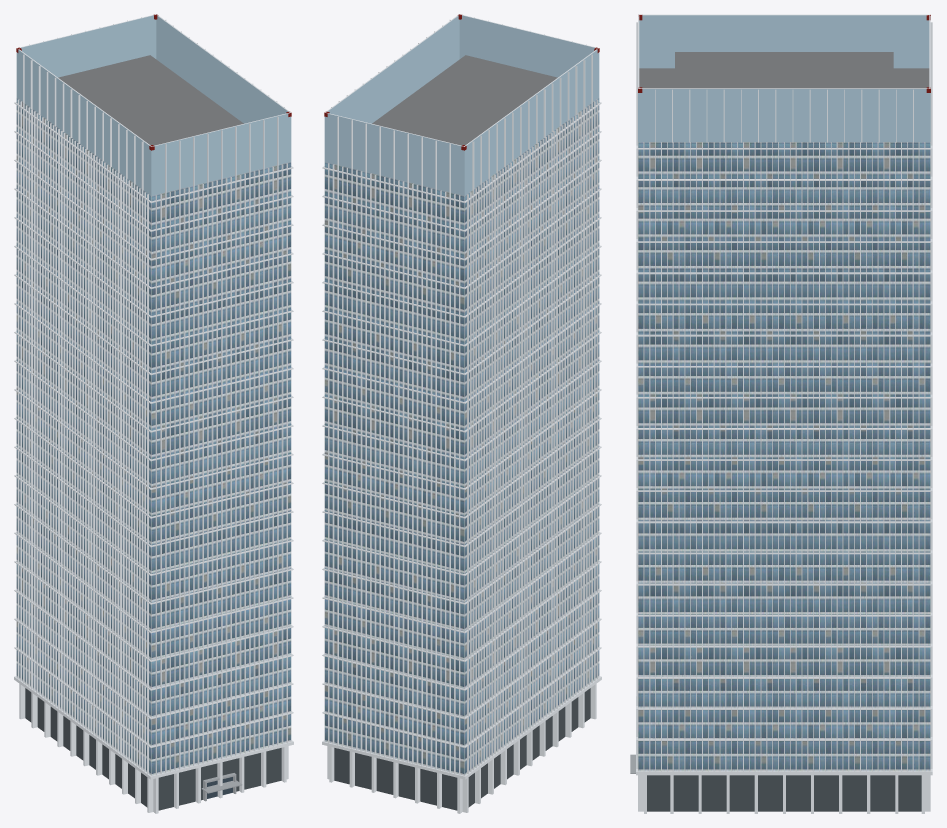
The model's file is gran_tokyo.glb.
3 renders of one model, left to right at view 1: azimuth 30°, elevation 25°; view 2: azimuth 150°, elevation 25°; view 3: azimuth 270°, elevation 25°, orthographic. The views are drawn at different scales.
Parts seen in each view (by area): view 1: gran_tokyo; view 2: gran_tokyo; view 3: gran_tokyo.
Boxes of the visible parts, x1,y1,x2,y2 form: gran_tokyo: [14, 14, 293, 813]; gran_tokyo: [322, 14, 601, 813]; gran_tokyo: [630, 14, 932, 813].
Size of the model in its own units: 46 by 205 by 77.51.
2 materials, 2 textured.
